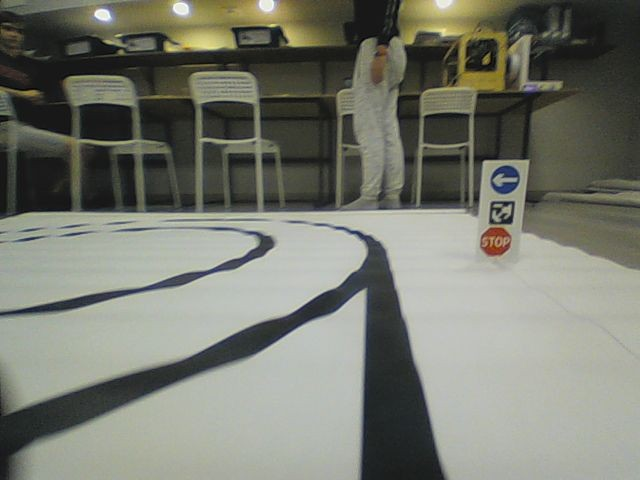Stop: (479, 225, 512, 257)
